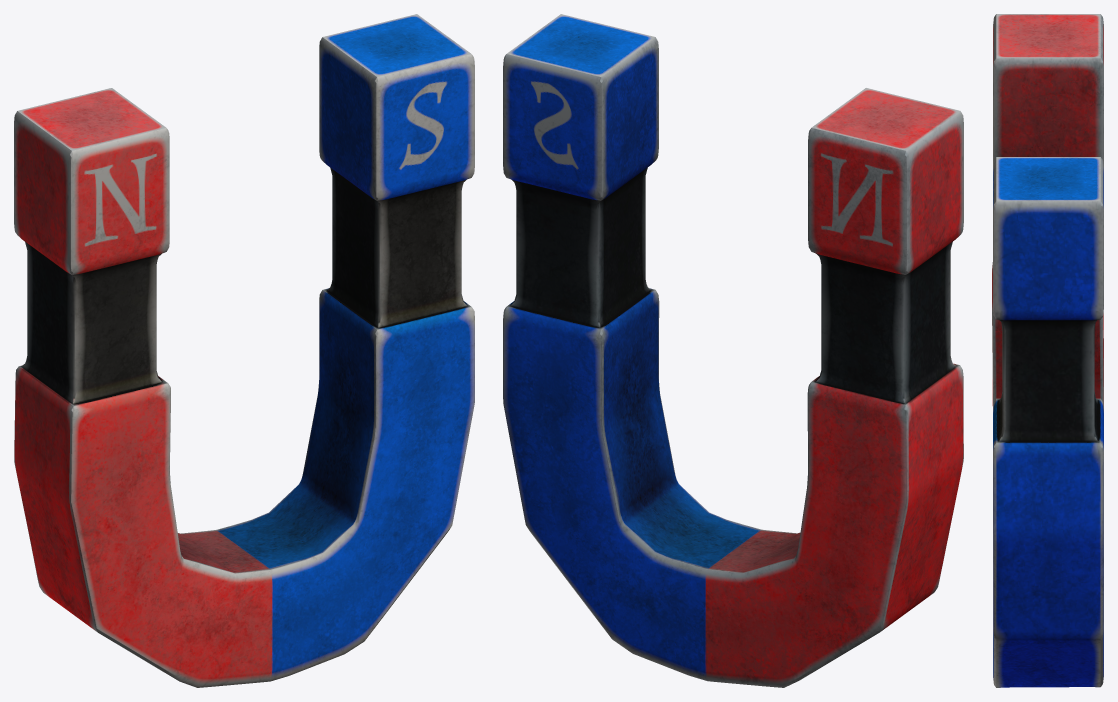
File: Magnet.fbx
The picture shows the model from 3 angles, left to right: view 1: azimuth 30°, elevation 25°; view 2: azimuth 150°, elevation 25°; view 3: azimuth 270°, elevation 25°; orthographic projection. The views are drawn at different scales.
Parts seen in each view (by area): view 1: Red &Blue Magnet; view 2: Red &Blue Magnet; view 3: Red &Blue Magnet.
Boxes of the visible parts, bbox=[...] form: Red &Blue Magnet: bbox=[14, 14, 474, 687]; Red &Blue Magnet: bbox=[503, 14, 963, 687]; Red &Blue Magnet: bbox=[992, 14, 1103, 687].
Size of the model in its own units: 9.55 by 13.03 by 2.39.
